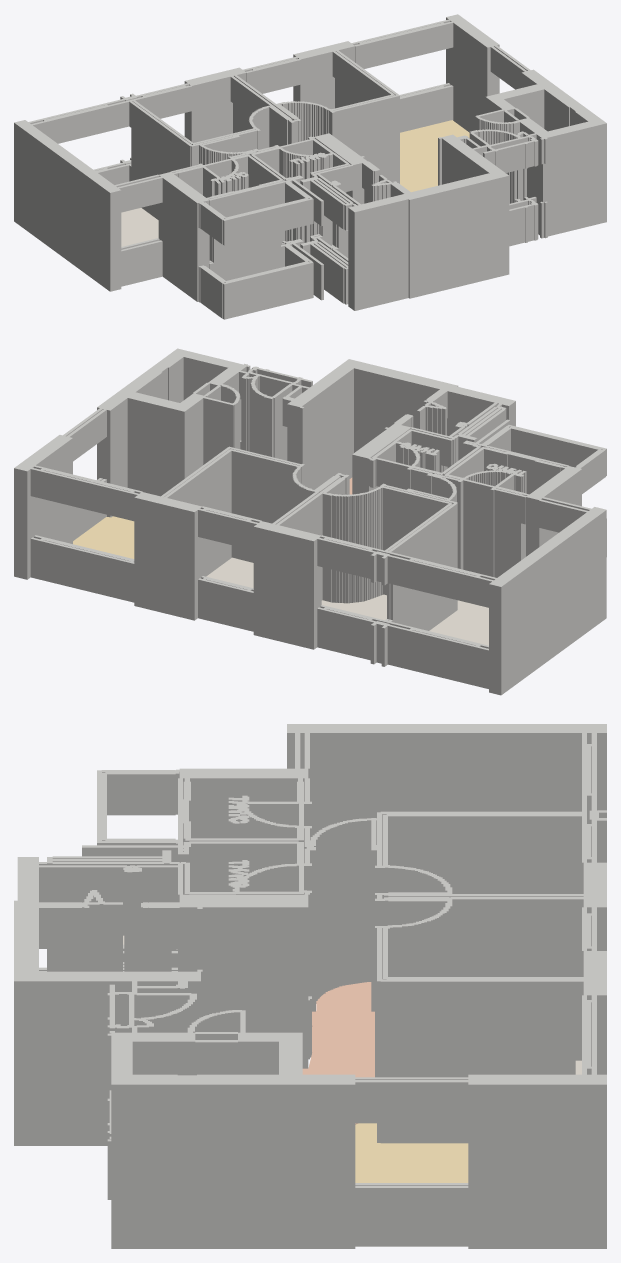
The picture shows the model from 3 angles, top to bottom: view 1: azimuth 30°, elevation 25°; view 2: azimuth 150°, elevation 25°; view 3: azimuth 270°, elevation 25°; orthographic projection. The views are drawn at different scales.
Parts seen in each view (by area): view 1: walls, room:living:1, room:other:5; view 2: walls, room:living:1, room:other:5, room:other:7, room:other:6; view 3: walls, room:kitchen:4, room:living:1.
Part boxes in pixels (x1,y1,x2,y2): walls: (14,14,606,319); room:living:1: (400,120,469,192); room:other:5: (121,208,158,246); walls: (14,348,606,695); room:living:1: (73,516,134,558); room:other:5: (429,600,488,645); room:other:7: (206,557,253,588); room:other:6: (321,594,386,620); walls: (14,724,606,1248); room:kitchen:4: (302,982,374,1124); room:living:1: (355,1123,468,1182).
Size of the model in its own units: 13.16 by 2.8 by 9.15.
